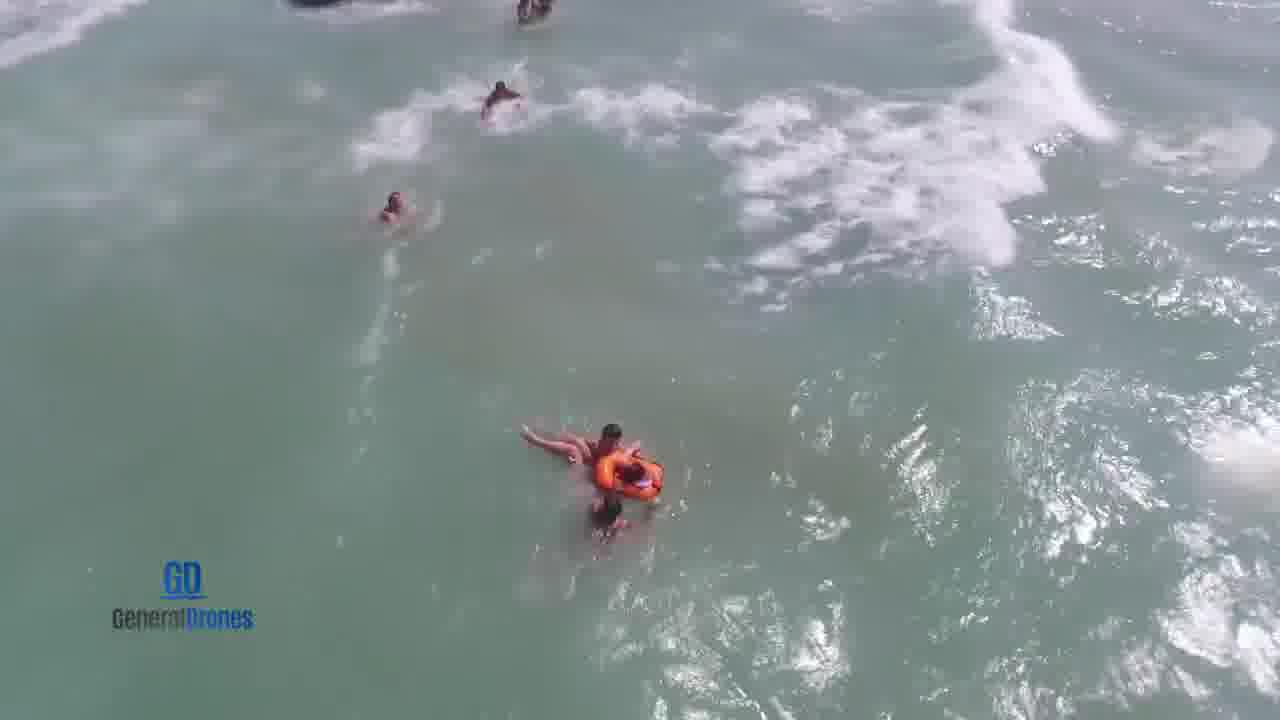swimmer: (516, 414, 670, 491), (560, 474, 649, 542), (573, 405, 645, 460), (471, 70, 533, 122), (359, 183, 423, 231)
